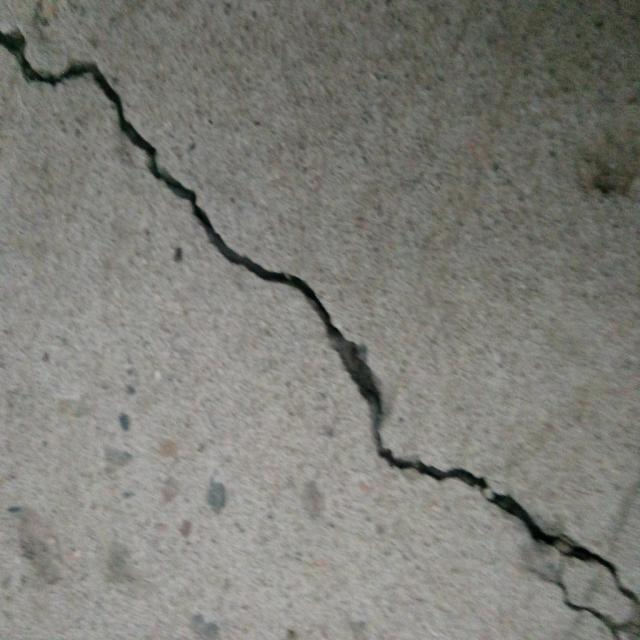cracks: (3, 4, 640, 640)
